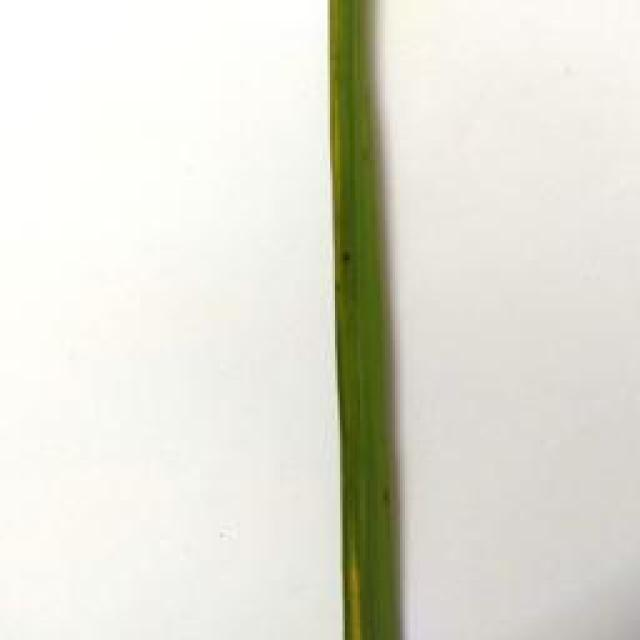Brown_Spot: (338, 247, 358, 271)
